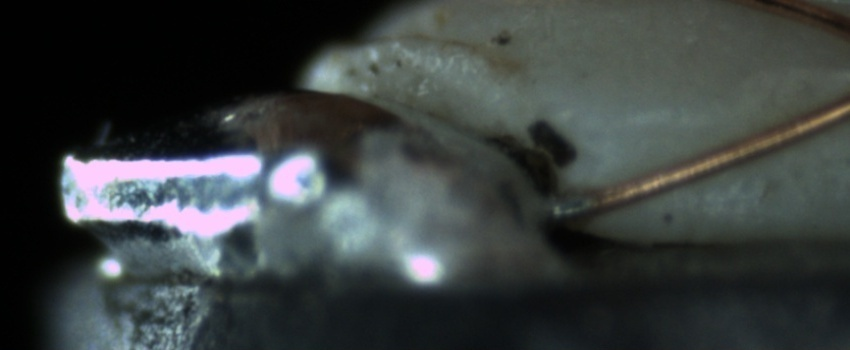DL: (601, 96, 736, 158)
TS: (547, 194, 594, 223)
